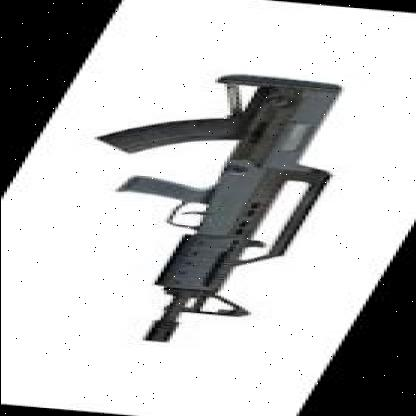rifle: (0, 60, 407, 346)
